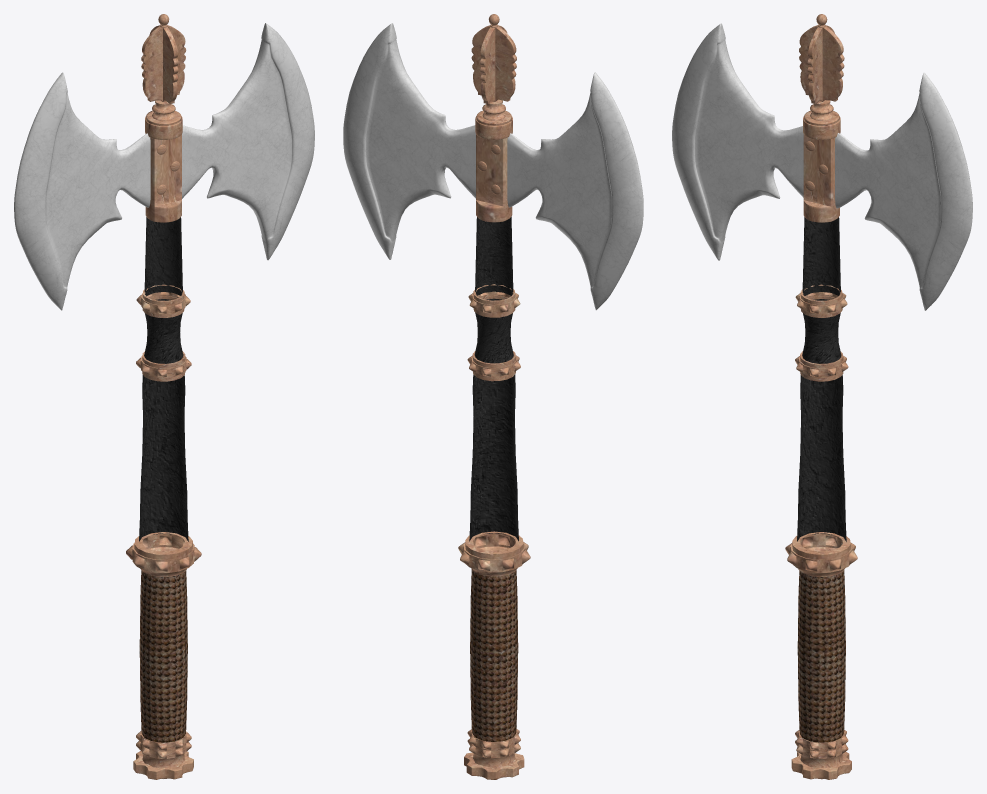
Rendered from elfinaxe.obj.
3 renders of one model, left to right at view 1: azimuth 30°, elevation 25°; view 2: azimuth 150°, elevation 25°; view 3: azimuth 330°, elevation 25°, orthographic.
Parts seen in each view (by area): view 1: STEEL, BRONZE, DARK_METAL, HANDLE; view 2: STEEL, BRONZE, DARK_METAL, HANDLE; view 3: STEEL, BRONZE, DARK_METAL, HANDLE.
Boxes of the visible parts, left/top/right/bottom form: STEEL: left=14, top=23, right=314, bottom=310; BRONZE: left=126, top=14, right=201, bottom=779; DARK_METAL: left=139, top=217, right=188, bottom=541; HANDLE: left=139, top=570, right=187, bottom=742; STEEL: left=343, top=23, right=643, bottom=310; BRONZE: left=458, top=14, right=530, bottom=779; DARK_METAL: left=469, top=216, right=518, bottom=541; HANDLE: left=470, top=570, right=518, bottom=741; STEEL: left=672, top=23, right=972, bottom=310; BRONZE: left=785, top=14, right=857, bottom=779; DARK_METAL: left=797, top=217, right=846, bottom=541; HANDLE: left=797, top=570, right=845, bottom=742.
Bounding box in the file's own units: 33.69 × 81.23 × 7.24.
